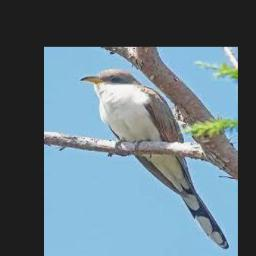Cuckoo: (79, 68, 229, 249)
